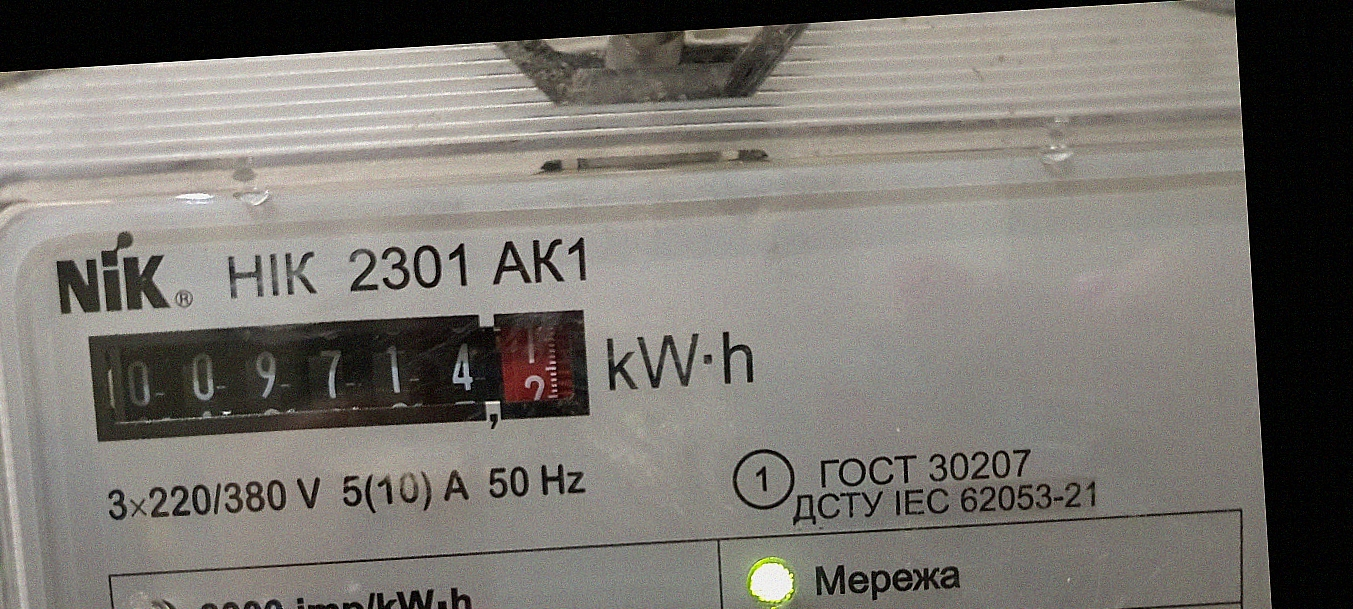0: (123, 355, 155, 410), (187, 348, 217, 403)
1: (381, 339, 407, 396), (521, 322, 538, 366)
2: (521, 370, 547, 402)
4: (446, 339, 477, 395)
7: (317, 346, 346, 401)
9: (249, 347, 281, 401)
screen: (72, 289, 608, 464)
